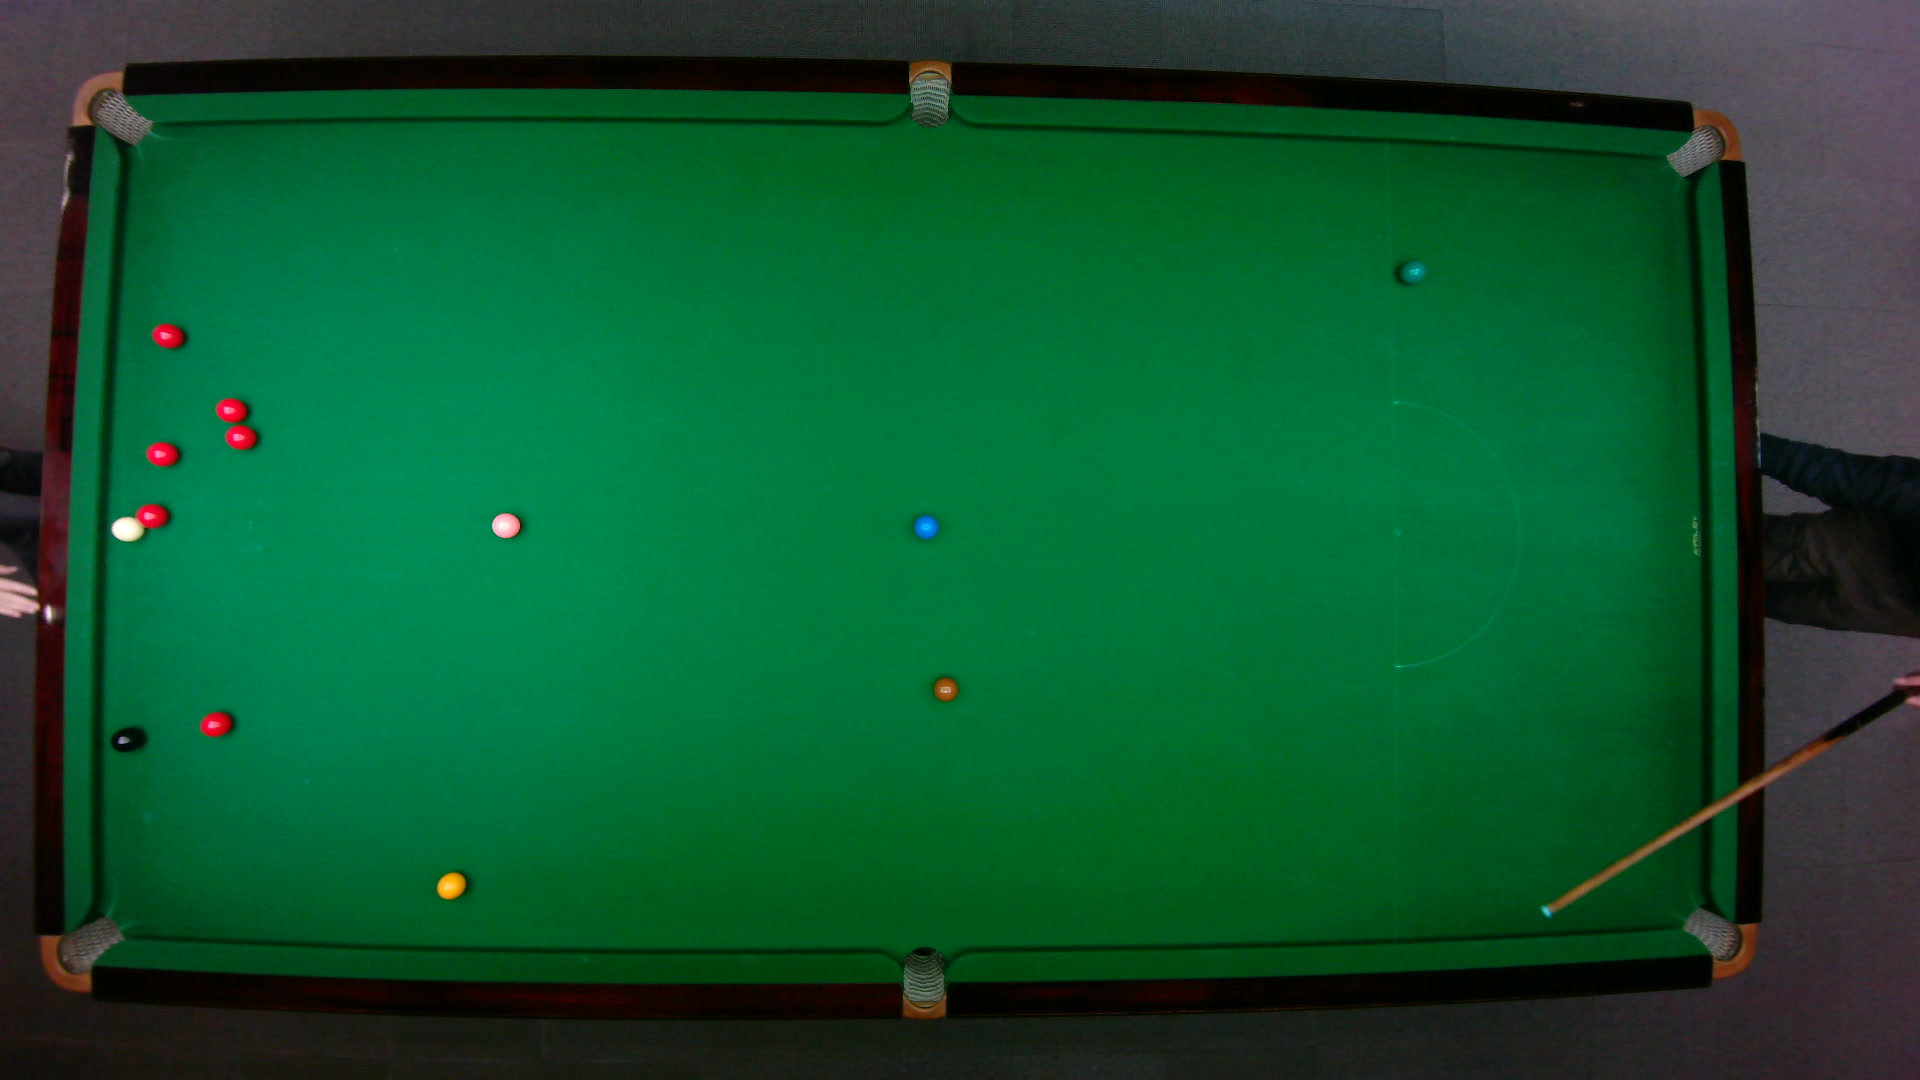bag: (38, 913, 127, 992), (69, 69, 152, 145), (1679, 905, 1756, 978), (1663, 107, 1741, 178), (901, 944, 944, 1021), (909, 57, 949, 128)
black: (108, 725, 138, 752)
blue: (911, 513, 938, 541)
brown: (932, 676, 957, 702)
cue: (1538, 684, 1913, 920)
green: (1396, 258, 1425, 284)
pink: (489, 509, 521, 539)
red: (196, 709, 232, 737), (135, 501, 170, 529), (215, 396, 248, 423), (223, 423, 257, 450), (145, 440, 179, 467), (150, 322, 185, 348)
white: (107, 513, 145, 542)
yellow: (435, 869, 465, 899)
zone: (1391, 400, 1520, 669)
